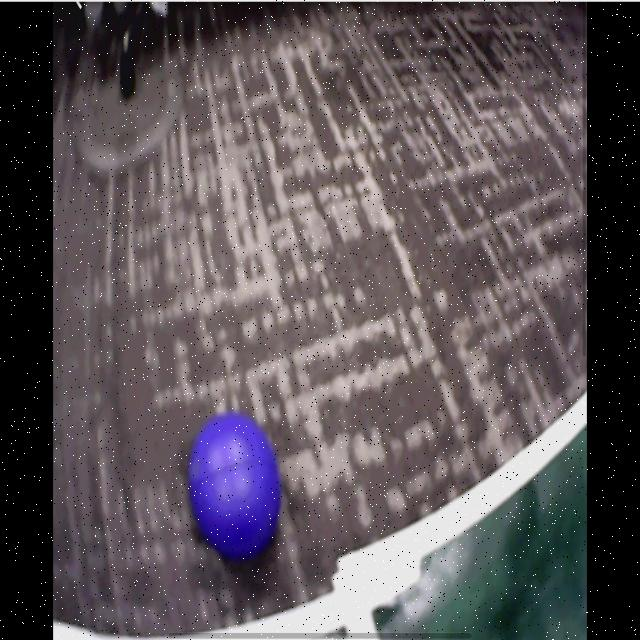ball: (190, 414, 281, 561)
